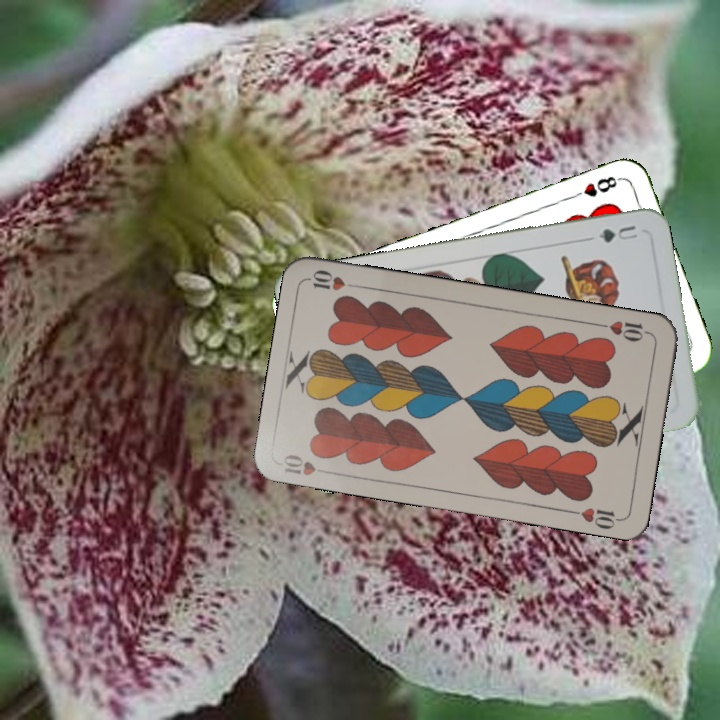GU: (593, 221, 640, 246)
H10: (594, 316, 653, 345), (279, 450, 336, 479)
H8: (567, 172, 623, 202)
